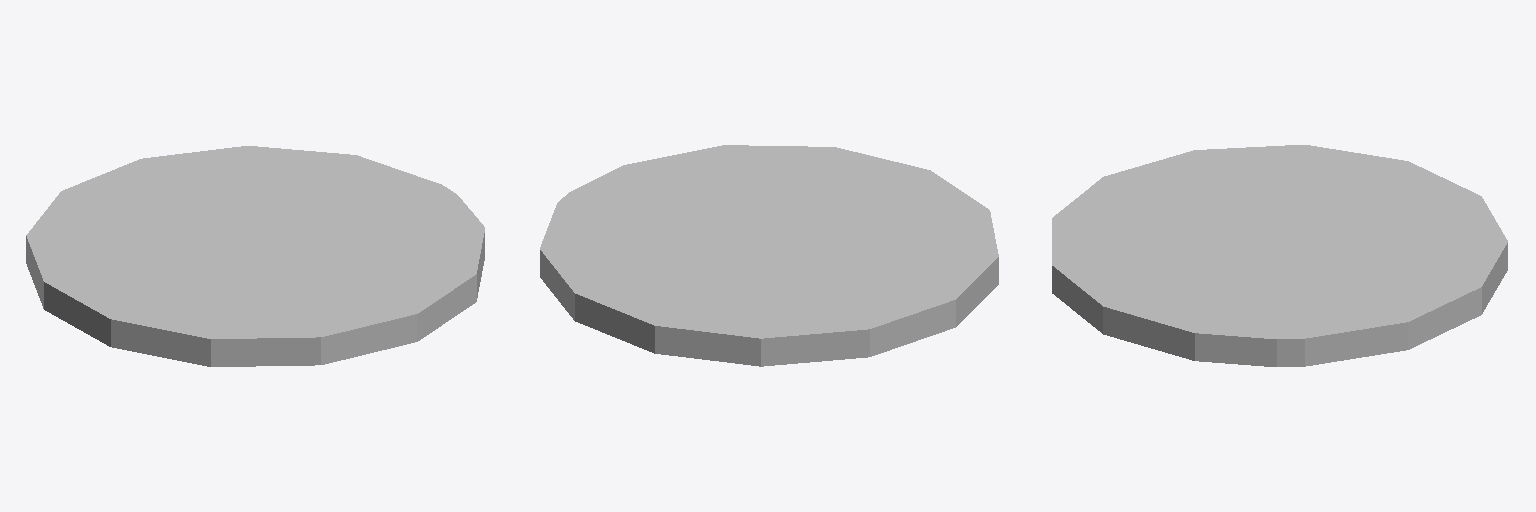
Rendered from Rebanada Jitomate .obj.
The picture shows the model from 3 angles: view 1: azimuth 30°, elevation 25°; view 2: azimuth 150°, elevation 25°; view 3: azimuth 270°, elevation 25°; orthographic projection.
Visible parts, largest first — view 1: Rebanada_Jitomate_; view 2: Rebanada_Jitomate_; view 3: Rebanada_Jitomate_.
Part boxes in pixels (bbox=[...]): Rebanada_Jitomate_: bbox=[26, 146, 484, 366]; Rebanada_Jitomate_: bbox=[540, 145, 998, 366]; Rebanada_Jitomate_: bbox=[1052, 145, 1507, 366].
Bounding box in the file's own units: 29.89 × 2 × 29.56.